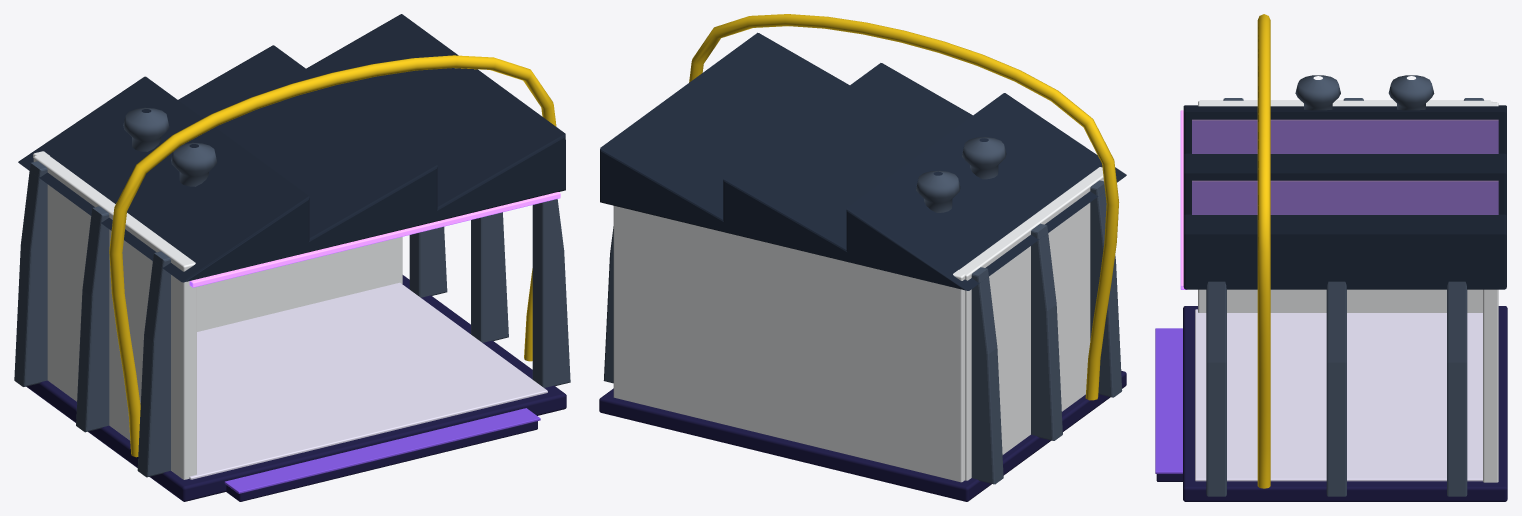
The model's file is booth-robotics.glb.
3 renders of one model, left to right at view 1: azimuth 30°, elevation 25°; view 2: azimuth 150°, elevation 25°; view 3: azimuth 270°, elevation 25°, orthographic. The views are drawn at different scales.
Visible parts, largest first — view 1: BoothShellRobotics; view 2: BoothShellRobotics; view 3: BoothShellRobotics.
Boxes of the visible parts, x1=… form: BoothShellRobotics: x1=14, y1=14, x2=570, y2=501; BoothShellRobotics: x1=599, y1=14, x2=1126, y2=501; BoothShellRobotics: x1=1155, y1=14, x2=1507, y2=501.
Bounding box in the file's own units: 8.4 × 6.32 × 5.86.
